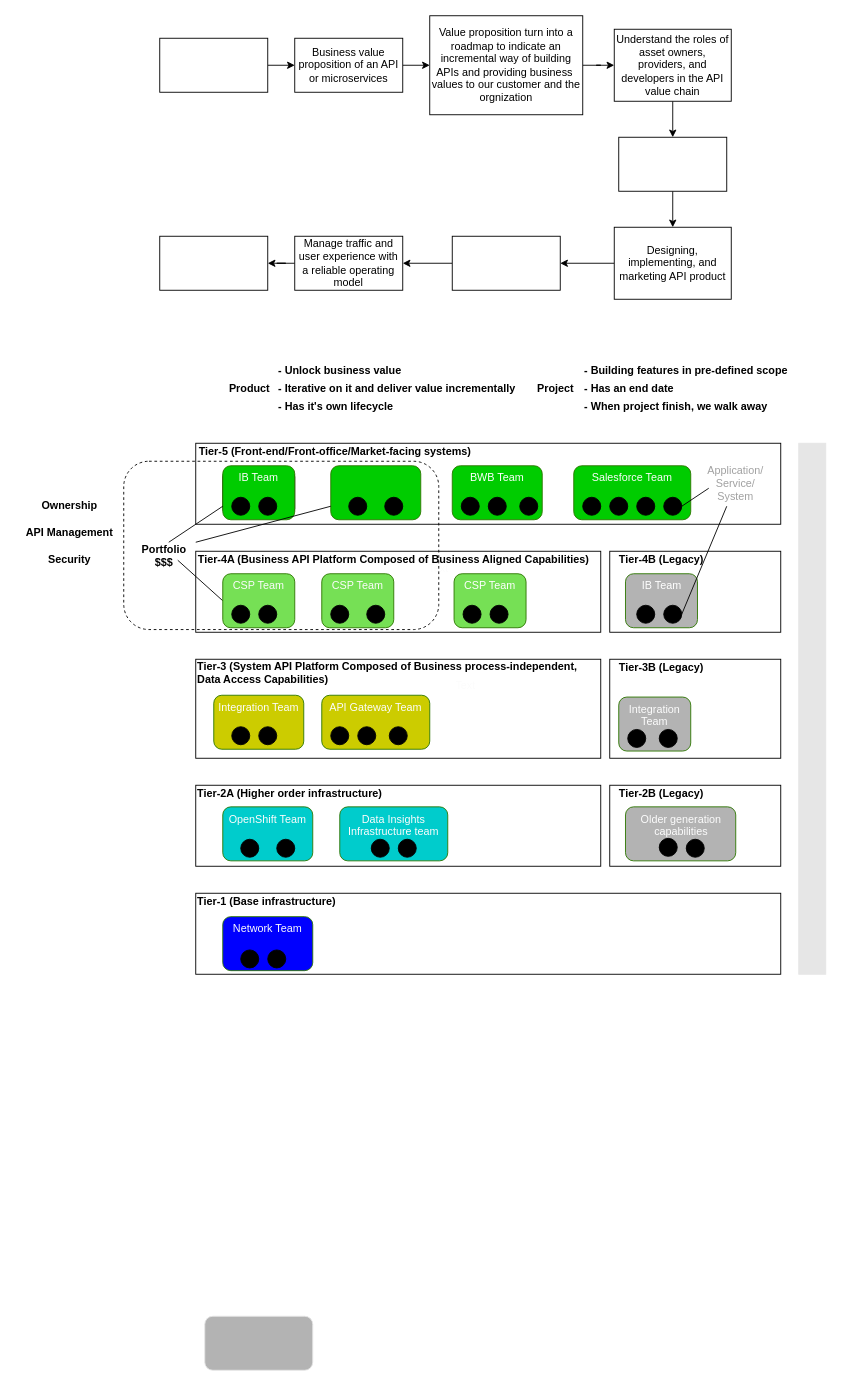
This 859x1386 diagram has some shape labels left out. Each missing label, with the centre of its shape:
"Create API strategies to deliver business value" goes at pixel 213 64.
"Determine the metrics you need to measure your API's success" goes at pixel 213 262.
"Discover the API life cycle" goes at pixel 672 163.
"Diverse an effective process for security and user management" goes at pixel 505 262.
"E N T E R P R I S E A R C H I T E C T U R E" goes at pixel 812 708.
"goMoney Team" goes at pixel 375 492.
